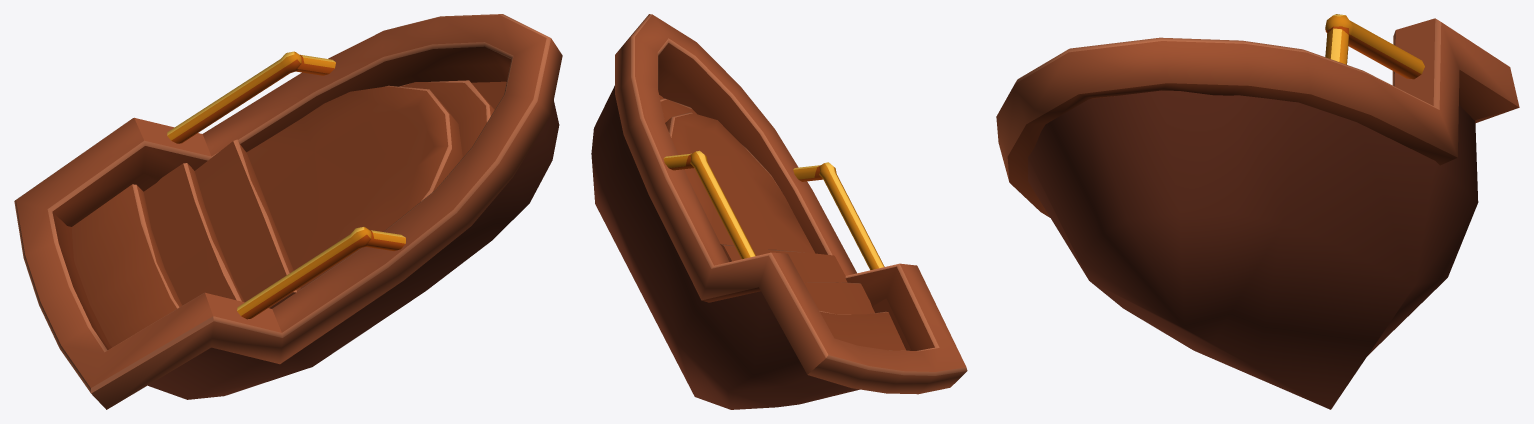
File: Ship_Wrek (1).fbx
3 renders of one model, left to right at view 1: azimuth 30°, elevation 25°; view 2: azimuth 150°, elevation 25°; view 3: azimuth 270°, elevation 25°, orthographic. The views are drawn at different scales.
Parts seen in each view (by area): view 1: Color_01; view 2: Color_01; view 3: Color_01.
Boxes of the visible parts, left/top/right/bottom form: Color_01: left=14, top=14, right=562, bottom=409; Color_01: left=591, top=14, right=967, bottom=409; Color_01: left=996, top=14, right=1519, bottom=409.
Size of the model in its own units: 23.52 by 17.28 by 17.79.
